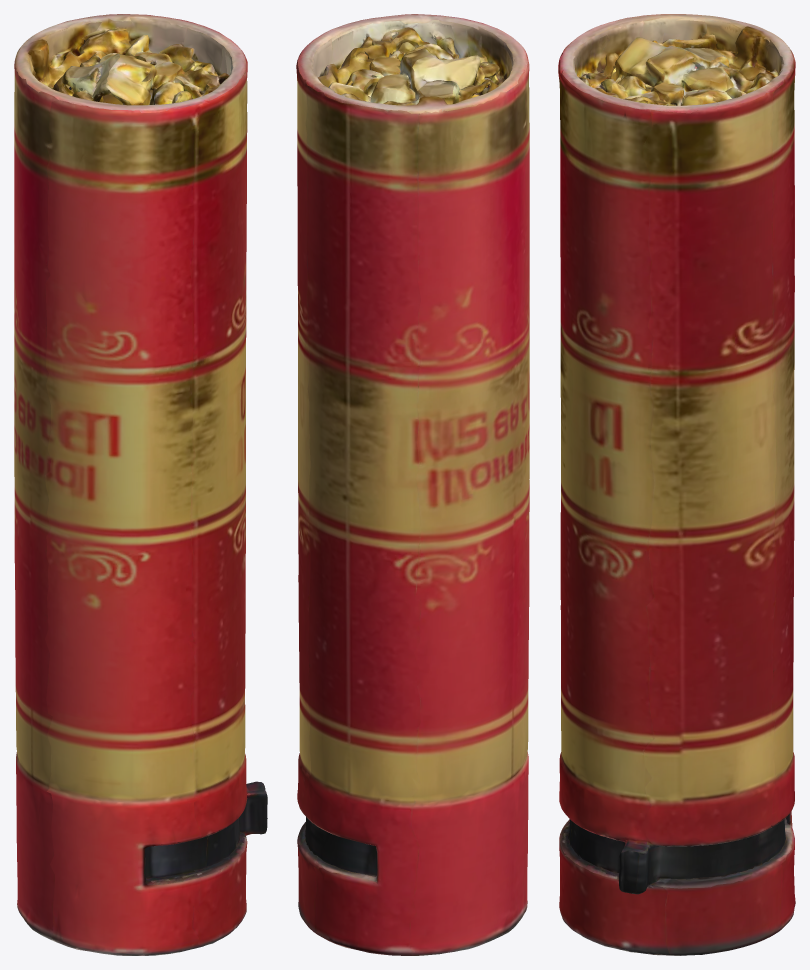
File: aholo-20261119-confetti-cannon.glb
The picture shows the model from 3 angles, left to right: view 1: azimuth 30°, elevation 25°; view 2: azimuth 150°, elevation 25°; view 3: azimuth 270°, elevation 25°; orthographic projection.
Visible parts, largest first — view 1: geometry_0; view 2: geometry_0; view 3: geometry_0.
Boxes of the visible parts, <box> form: geometry_0: <box>14,14,267,955</box>; geometry_0: <box>296,14,529,955</box>; geometry_0: <box>558,14,795,955</box>.
Size of the model in its own units: 0.0475 by 0.18 by 0.0451.
Materials: 1 (1 with a texture image).
